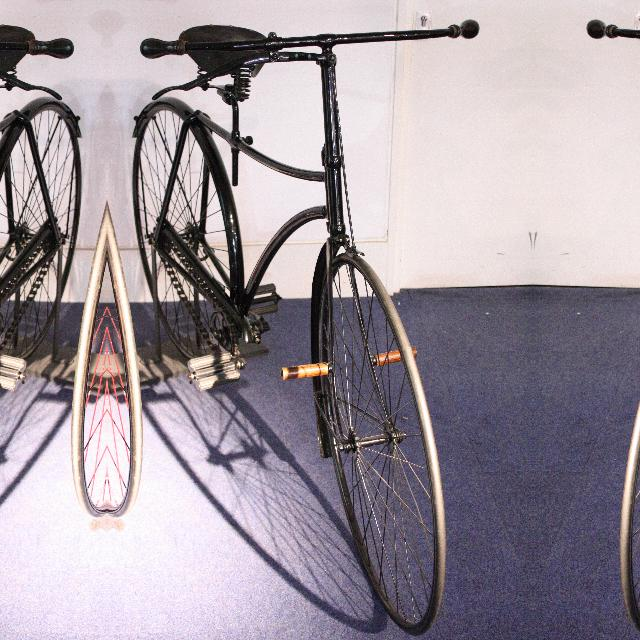obstacle: (125, 0, 533, 630), (533, 0, 640, 630), (0, 0, 87, 630)
